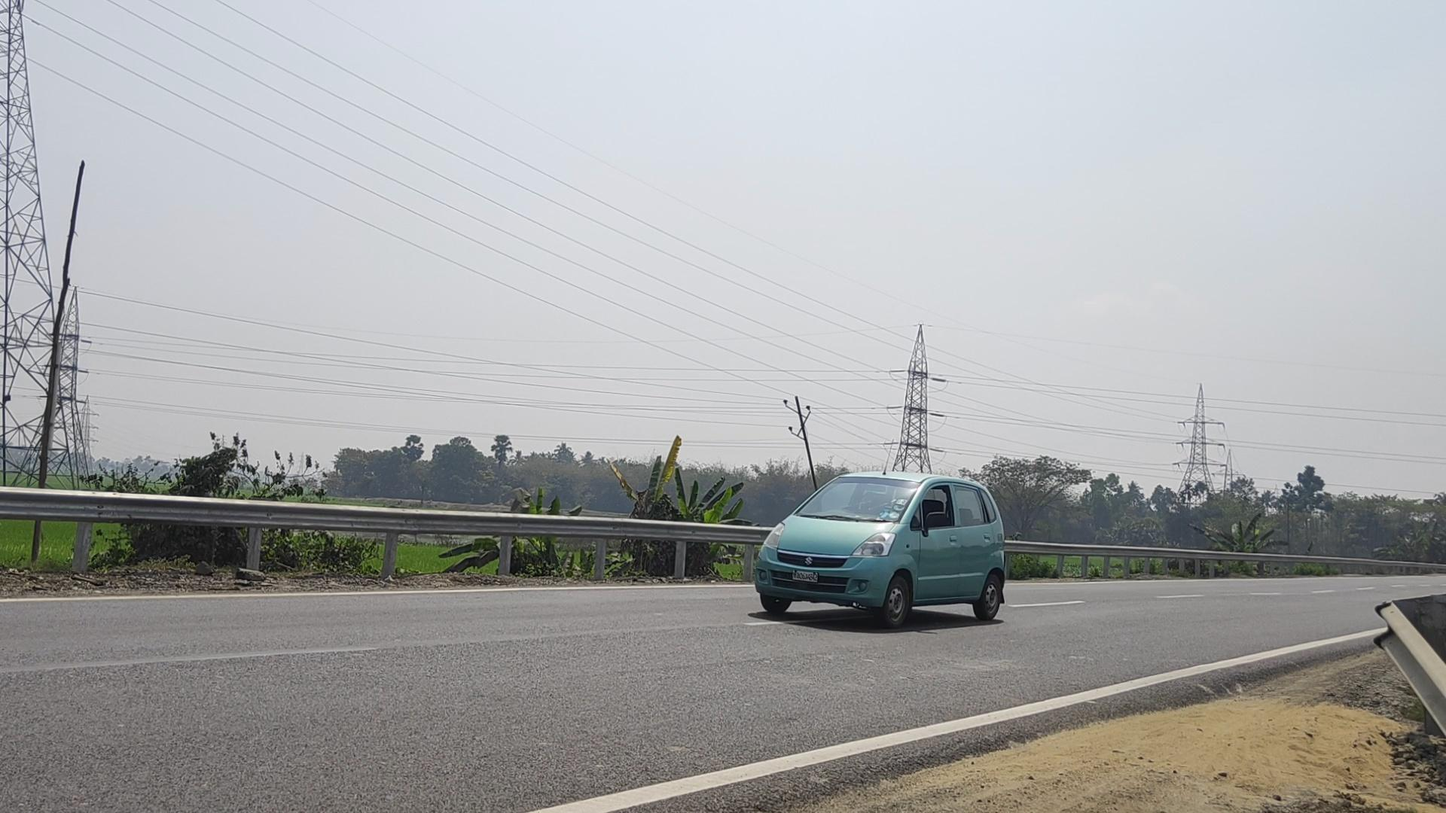car: (755, 470, 1005, 629)
